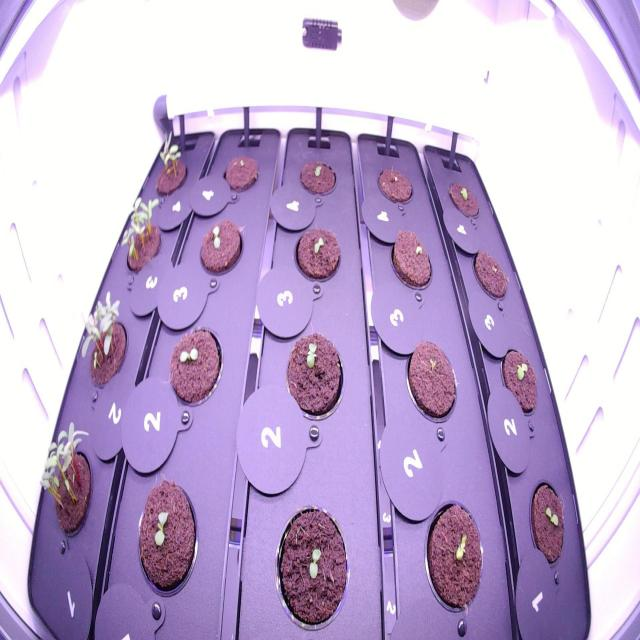germination: (266, 494, 358, 637), (129, 467, 203, 606), (416, 490, 489, 628), (31, 411, 99, 546), (275, 327, 349, 431), (72, 282, 133, 399), (160, 320, 228, 415), (522, 469, 572, 579), (114, 188, 166, 284), (382, 222, 438, 300), (286, 221, 346, 290), (494, 341, 542, 423), (192, 210, 246, 282), (146, 124, 192, 205), (292, 152, 342, 205), (442, 174, 483, 223)
pod: (403, 333, 463, 432), (468, 243, 514, 308), (217, 144, 263, 198), (371, 159, 417, 210)
